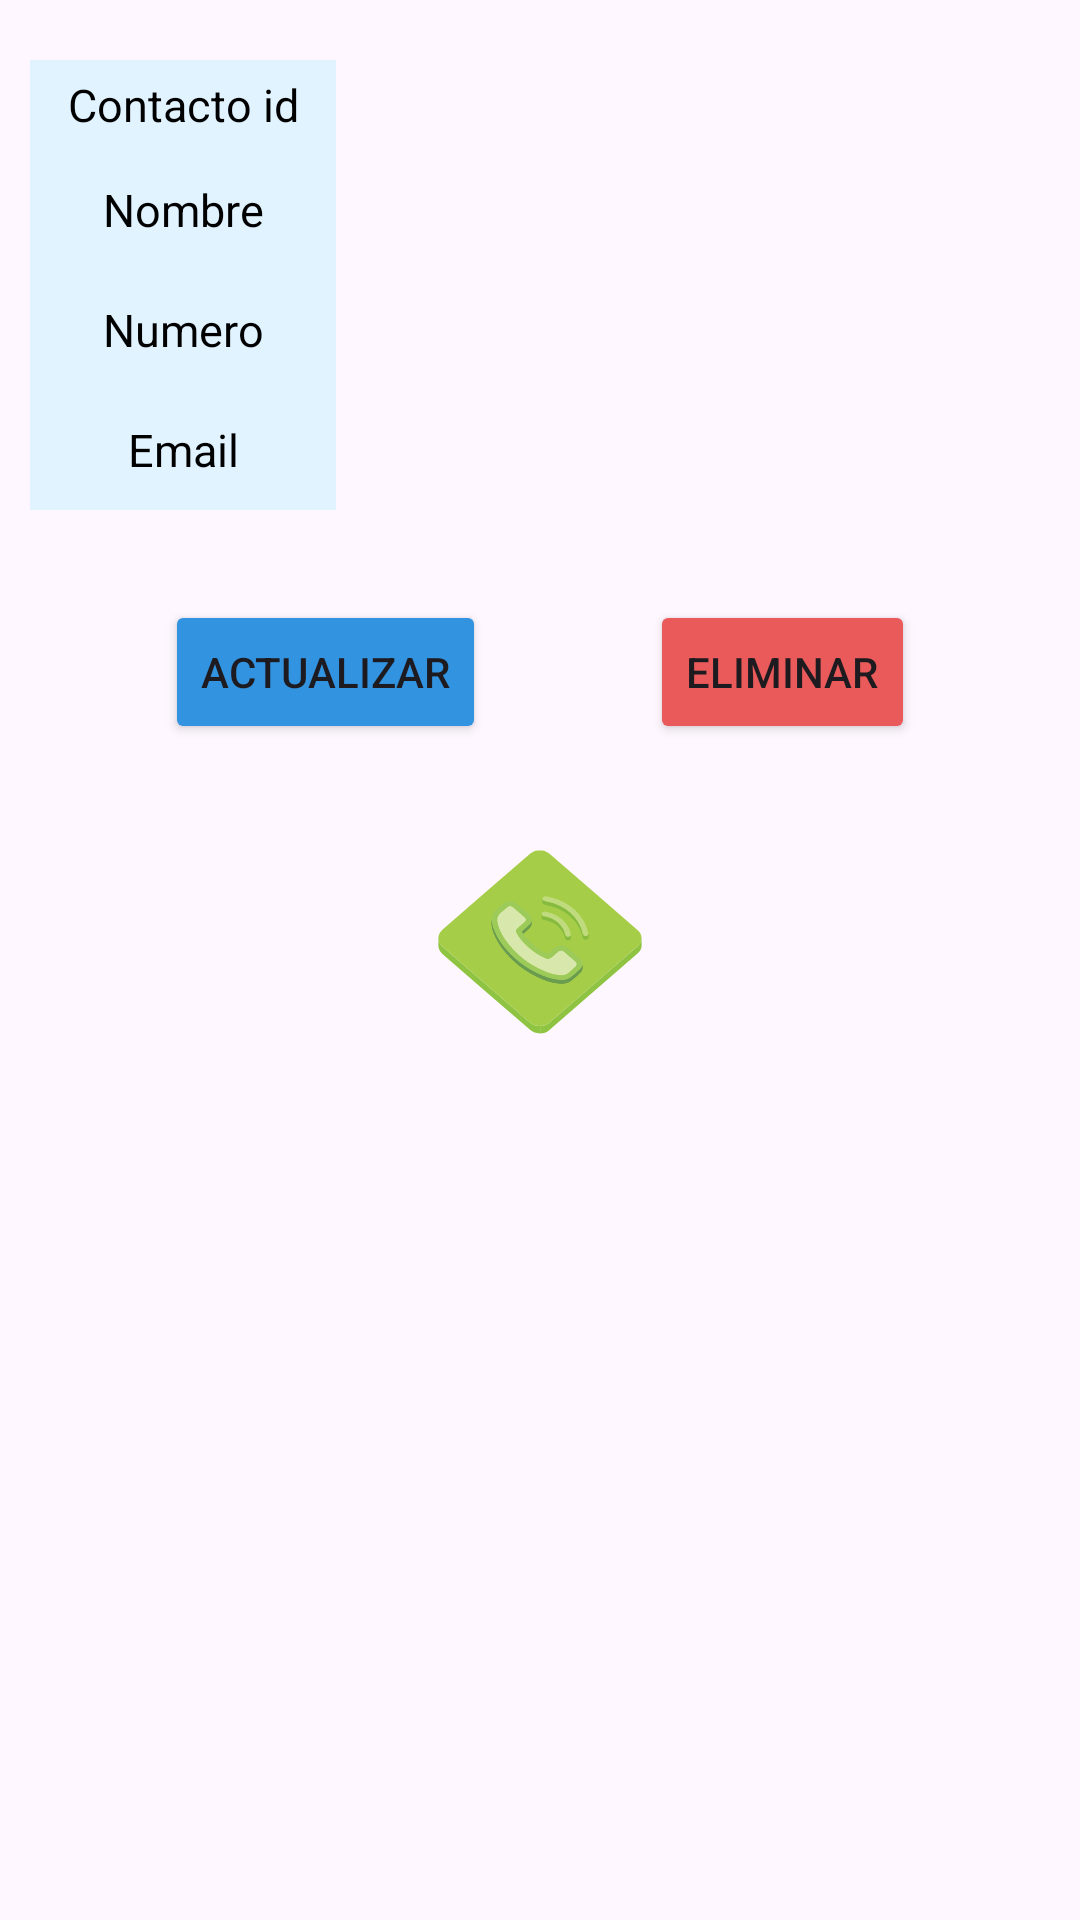

Point at icon controls on the screen. Image size 1080×1920, points as [x,y].
telefono: [540,942]
